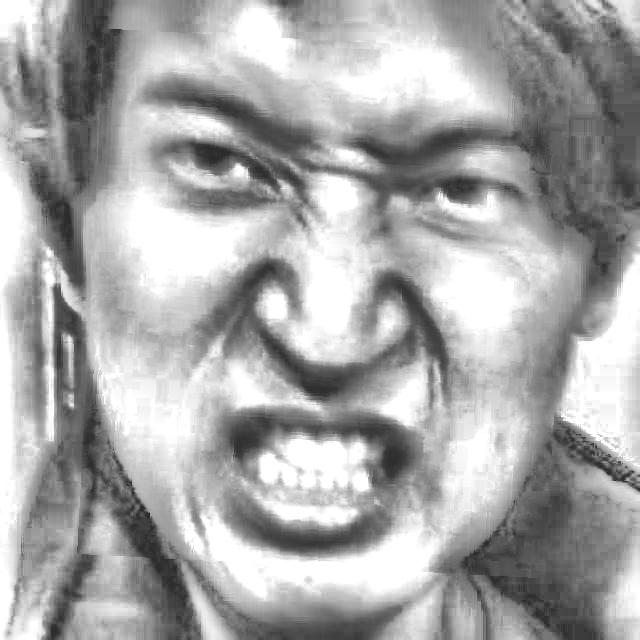angry: (84, 35, 566, 573)
